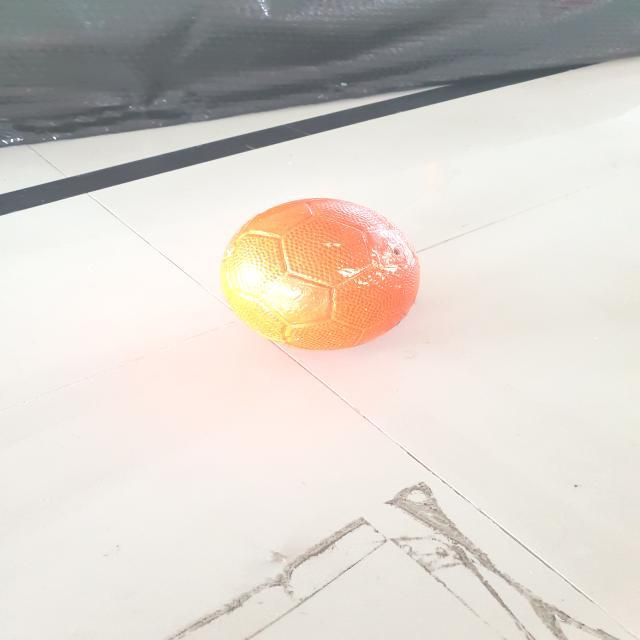bola: (209, 189, 430, 356)
